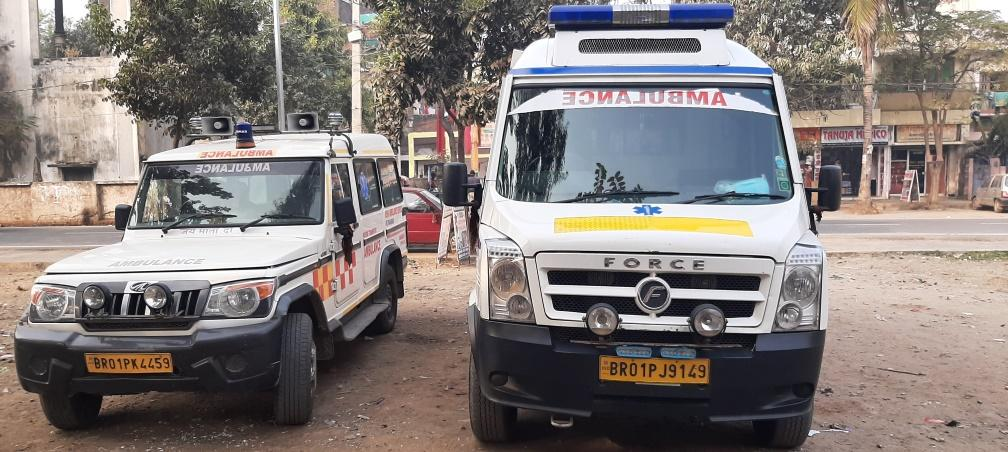ambulance: (510, 5, 779, 205)
